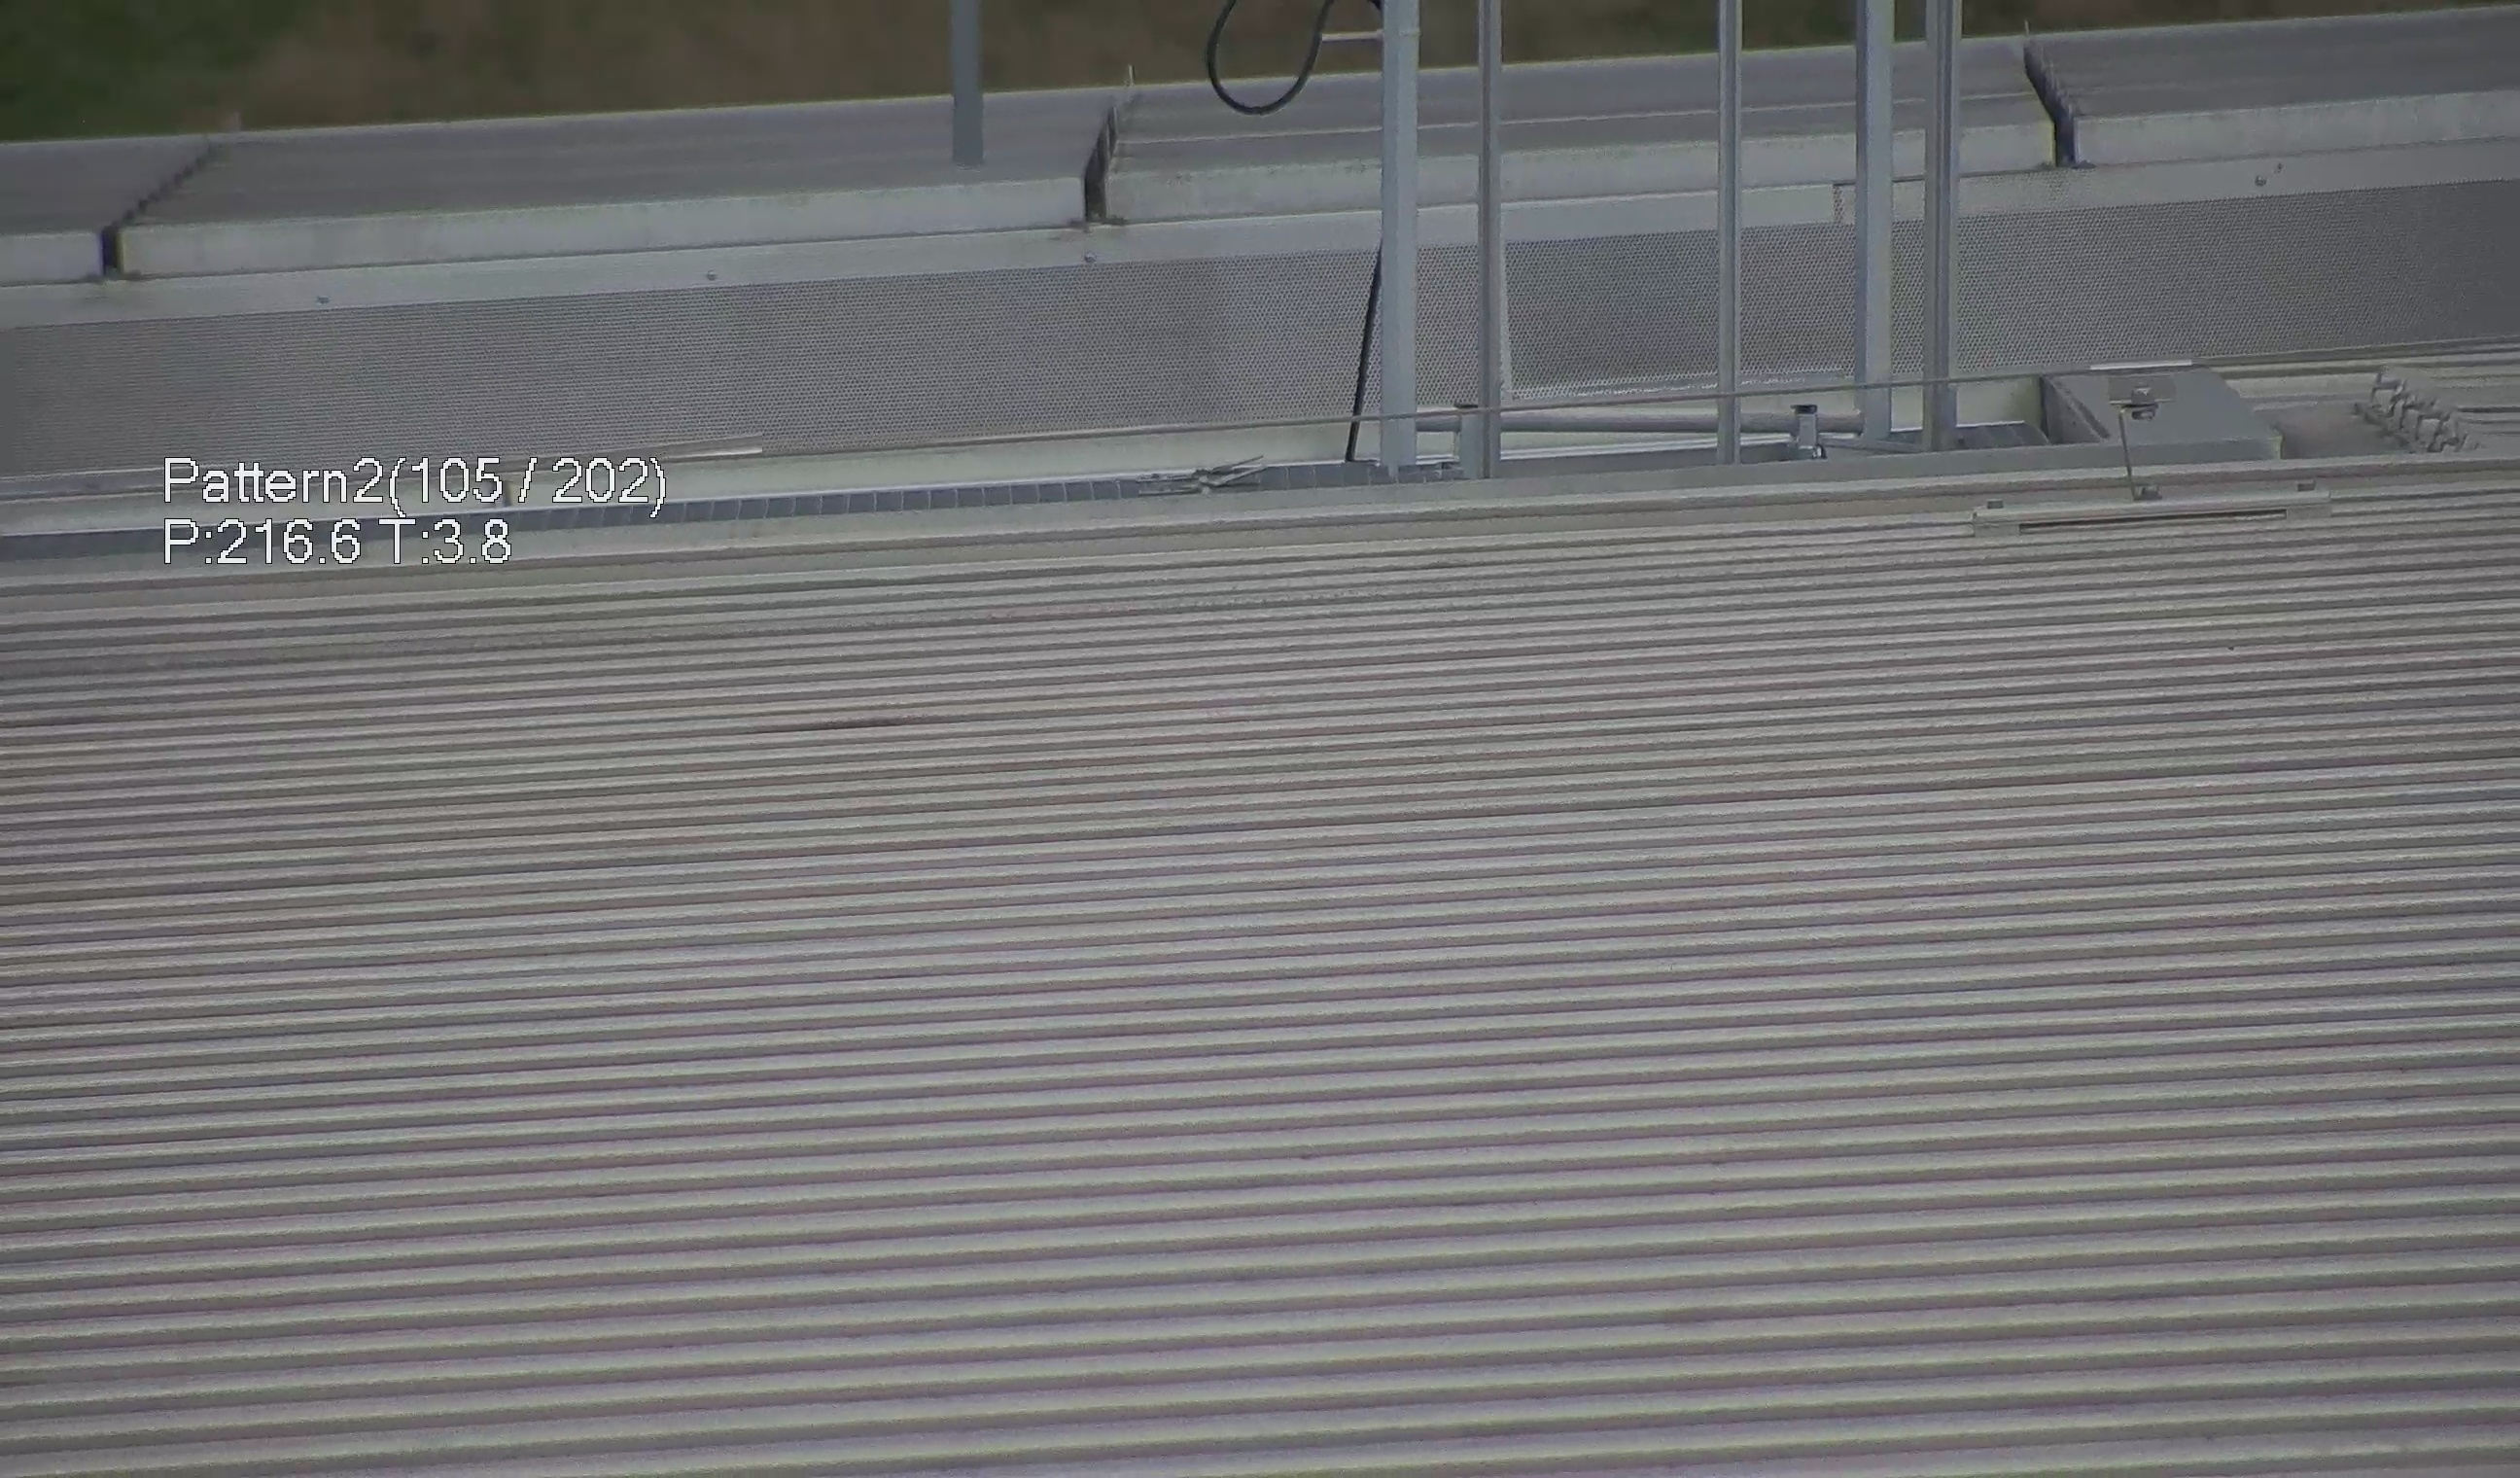Other: (2017, 39, 2112, 169)
